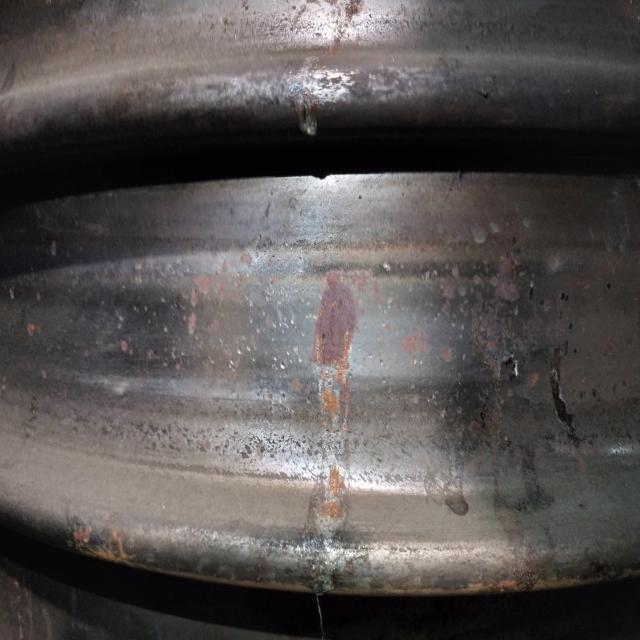Out_Of_Roundness: (305, 475, 355, 603), (285, 72, 330, 149)
